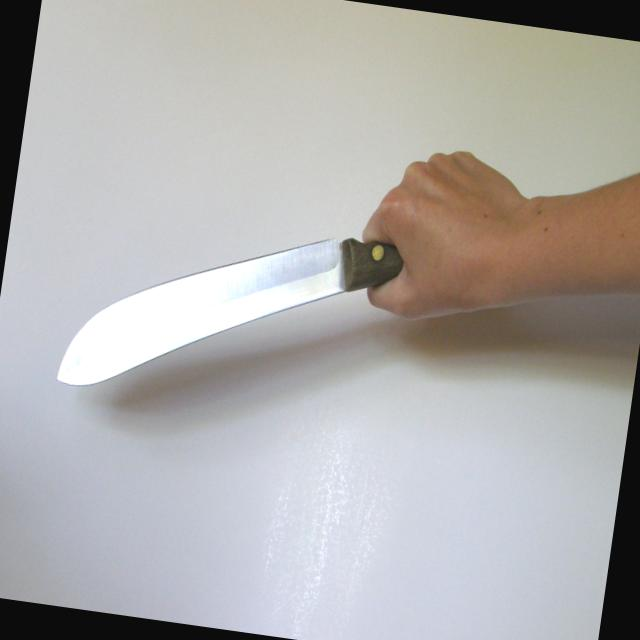knife: (30, 96, 450, 448)
